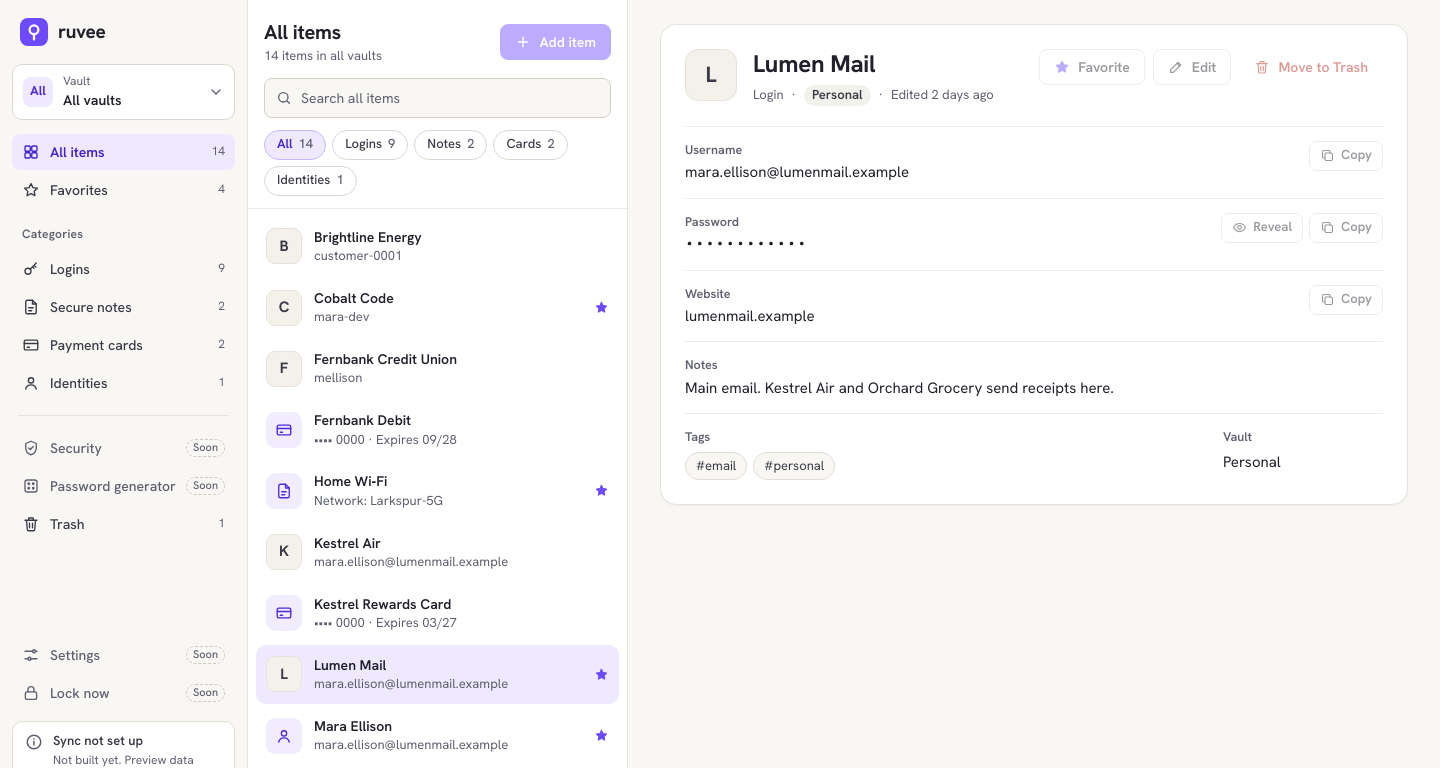
Test case: VaultShell › selects an item and filters by its tag
Click the button "K Kestrel Air mara.ellison@lumenmail.example".
click(438, 552)  # box top-left (256, 522), bottom-right (619, 582)
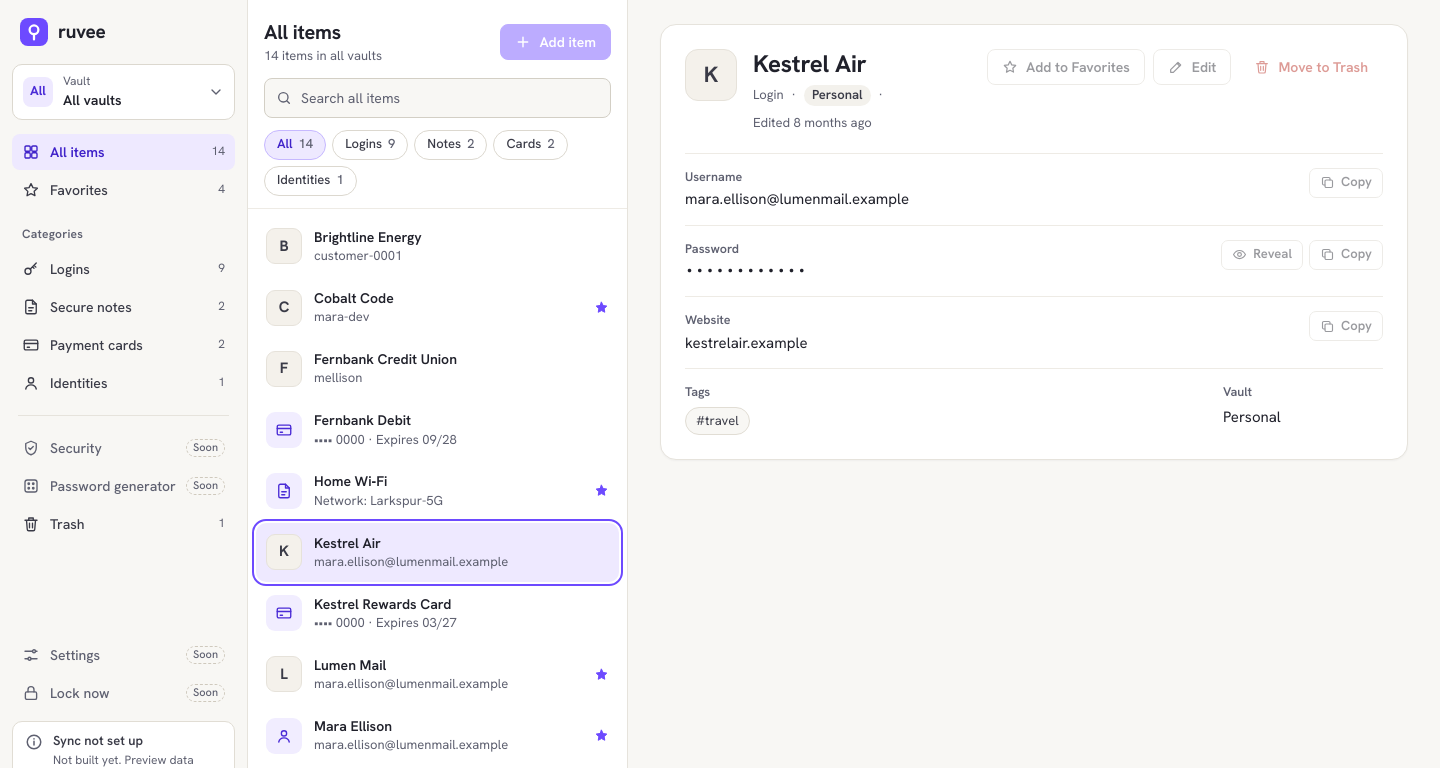
Expected: the heading "Kestrel Air" is shown, top-left (753, 48), bottom-right (866, 79)
Click the button with aria-label "Show items tagged travel".
click(717, 421)  # box top-left (685, 407), bottom-right (750, 435)
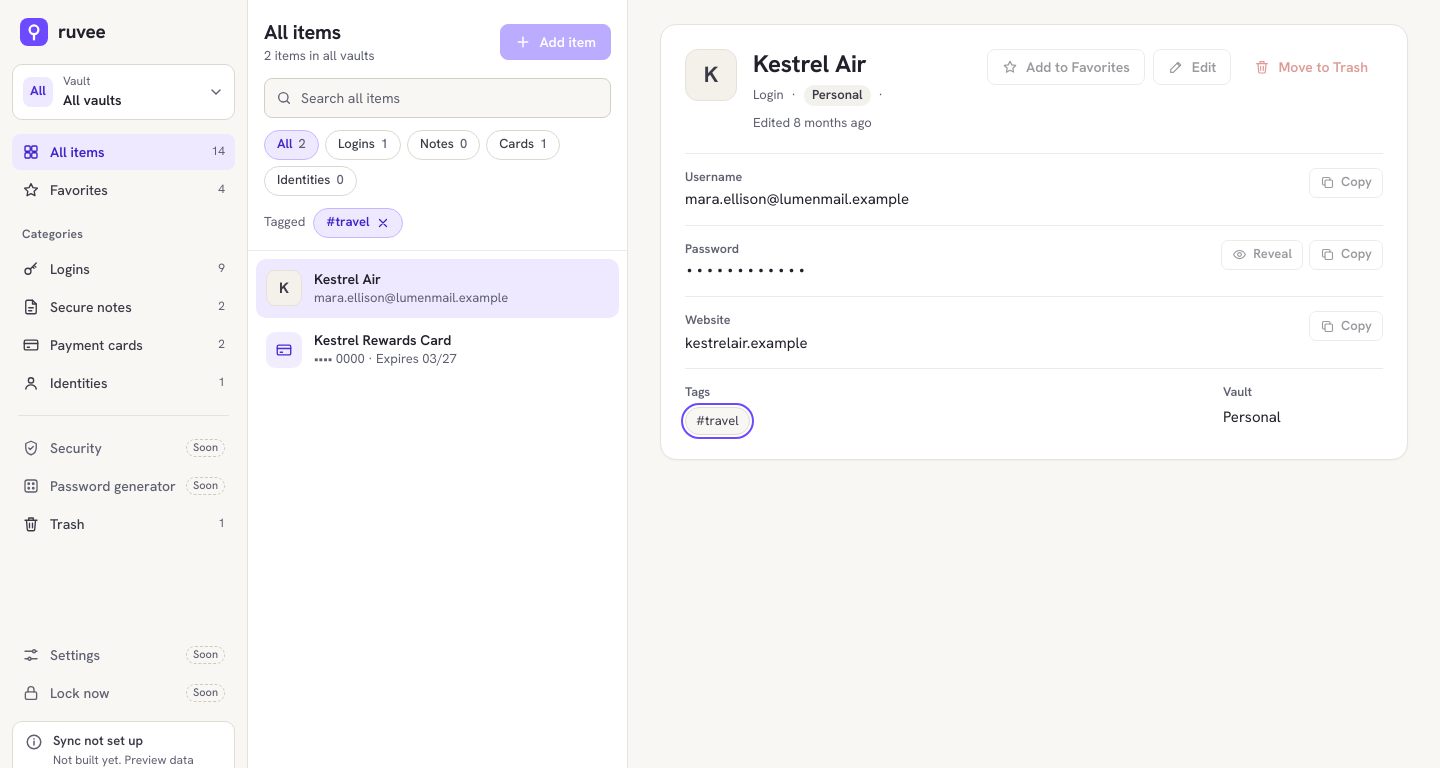
Expected: the button with aria-label "Clear tag filter travel" is shown, top-left (313, 208), bottom-right (402, 238)
